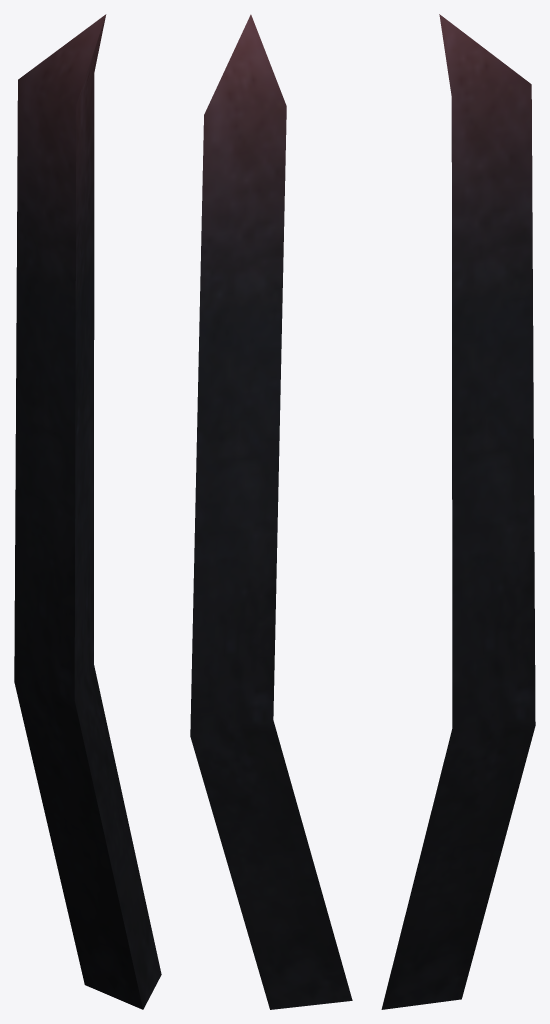
The model's file is Railing_Cap.fbx.
3 renders of one model, left to right at view 1: azimuth 90°, elevation 25°; view 2: azimuth 150°, elevation 25°; view 3: azimuth 270°, elevation 25°, orthographic. The views are drawn at different scales.
Visible parts, largest first — view 1: Railing_Cap; view 2: Railing_Cap; view 3: Railing_Cap.
Part boxes in pixels (x1=…): Railing_Cap: x1=14, y1=14, x2=161, y2=1009; Railing_Cap: x1=190, y1=14, x2=352, y2=1009; Railing_Cap: x1=381, y1=14, x2=535, y2=1009.
Size of the model in its own units: 8.28 by 65.79 by 9.18.
Materials: 1 (1 with a texture image).
